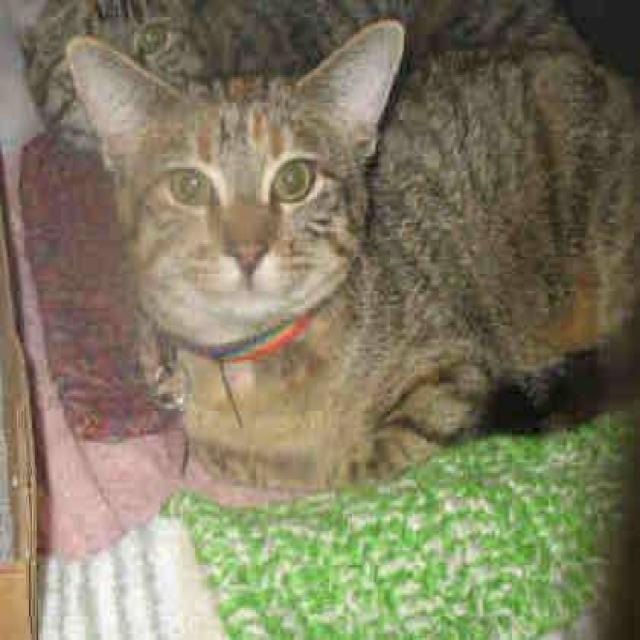cat: (55, 21, 640, 511), (8, 0, 608, 143)
